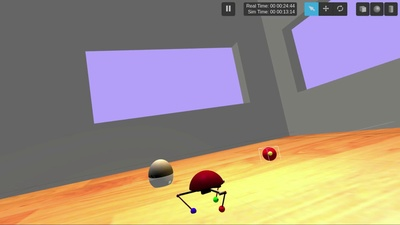mira_robot: (148, 159, 174, 188)
